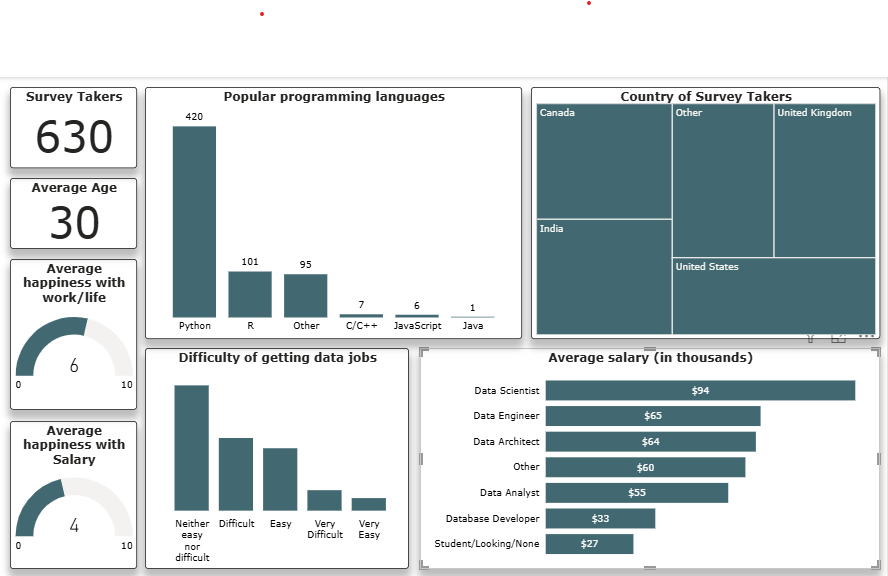

Layout of this report page (visuals, bound fields, positions):
{"tool":"powerbi","page":{"name":"Page 1","canvas":[1280,720],"ordinal":0},"visuals":[{"type":"card","title":"Survey Takers","fields":{"Values":["Count(Data Professional Survey.Unique ID)"]},"box":[15.8,14.4,182.9,116.6],"z":1000},{"type":"card","title":"Average Age","fields":{"Values":["Avg(Data Professional Survey.Q10 - Current Age)"]},"box":[15.8,145.4,182.9,102.2],"z":2000},{"type":"barChart","title":"Average salary (in thousands)","fields":{"Category":["Data Professional Survey.Q1 - Which Title Best Fits your Current Role?.1"],"Y":["Avg(Data Professional Survey.Average Salary)"],"Series":["Data Professional Survey.Q1 - Which Title Best Fits your Current Role?.1"]},"box":[606.2,390.2,662.4,318.2],"z":3000},{"type":"columnChart","title":"Popular programming languages","fields":{"Category":["Data Professional Survey.Q5 - Favorite Programming Language.1"],"Y":["CountNonNull(Data Professional Survey.Unique ID)"]},"box":[210.2,14.4,542.9,362.9],"z":4000},{"type":"treemap","title":"Country of Survey Takers","fields":{"Group":["Data Professional Survey.Q11 - Which Country do you live in?.1"],"Values":["Count(Data Professional Survey.Q11 - Which Country do you live in?.1)"]},"box":[766.1,14.4,502.6,362.9],"z":5000},{"type":"gauge","title":"Average happiness with Salary","fields":{"Y":["Avg(Data Professional Survey.Q6 - How Happy are you in your Current Position with the following? (Salary))"],"MinValue":["Min(Data Professional Survey.Q6 - How Happy are you in your Current Position with the following? (Salary))"],"MaxValue":["Max(Data Professional Survey.Q6 - How Happy are you in your Current Position with the following? (Salary))"]},"box":[15.8,495.4,182.9,213.1],"z":6000},{"type":"gauge","title":"Average happiness with work/life","fields":{"Y":["Avg(Data Professional Survey.Q6 - How Happy are you in your Current Position with the following? (Work/Life Balance))"],"MinValue":["Min(Data Professional Survey.Q6 - How Happy are you in your Current Position with the following? (Work/Life Balance))1"],"MaxValue":["Max(Data Professional Survey.Q6 - How Happy are you in your Current Position with the following? (Work/Life Balance))2"]},"box":[15.8,262.1,182.9,217.4],"z":7000},{"type":"columnChart","title":"Difficulty of getting data jobs","fields":{"Category":["Data Professional Survey.Q7 - How difficult was it for you to break into Data?"],"Y":["CountNonNull(Data Professional Survey.Q7 - How difficult was it for you to break into Data?)"]},"box":[210.2,390.2,380.2,318.2],"z":8000}]}

Visuals, with their boxes in screenshot pixels (x1, y1, x2, y2):
"Survey Takers" card: <region>11, 86, 136, 166</region>
"Average Age" card: <region>11, 176, 136, 246</region>
"Average salary (in thousands)" barChart: <region>415, 343, 868, 561</region>
"Popular programming languages" columnChart: <region>144, 86, 515, 334</region>
"Country of Survey Takers" treemap: <region>524, 86, 868, 334</region>
"Average happiness with Salary" gauge: <region>11, 415, 136, 561</region>
"Average happiness with work/life" gauge: <region>11, 256, 136, 404</region>
"Difficulty of getting data jobs" columnChart: <region>144, 343, 404, 561</region>
